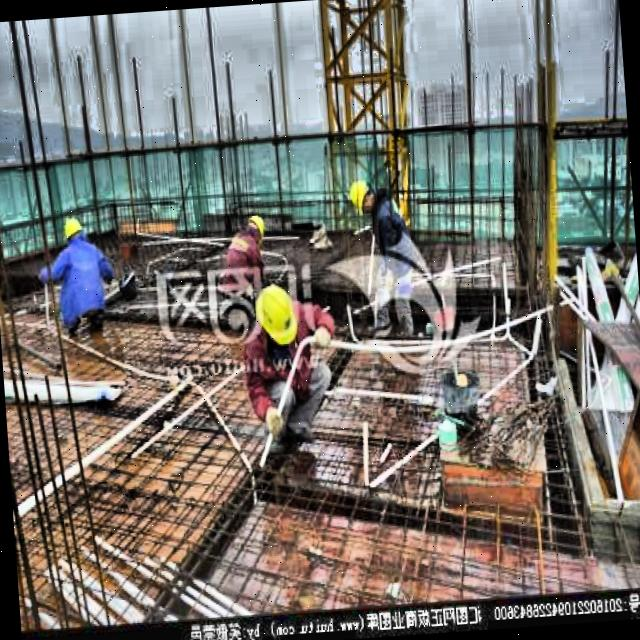helmet: (252, 277, 298, 349), (346, 178, 378, 220), (242, 213, 268, 242), (60, 216, 84, 247)
